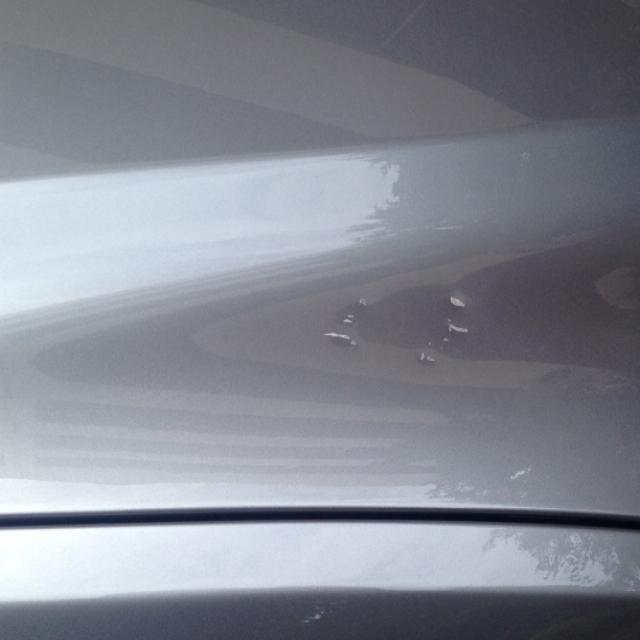dents: (404, 277, 476, 388), (321, 272, 381, 380)
